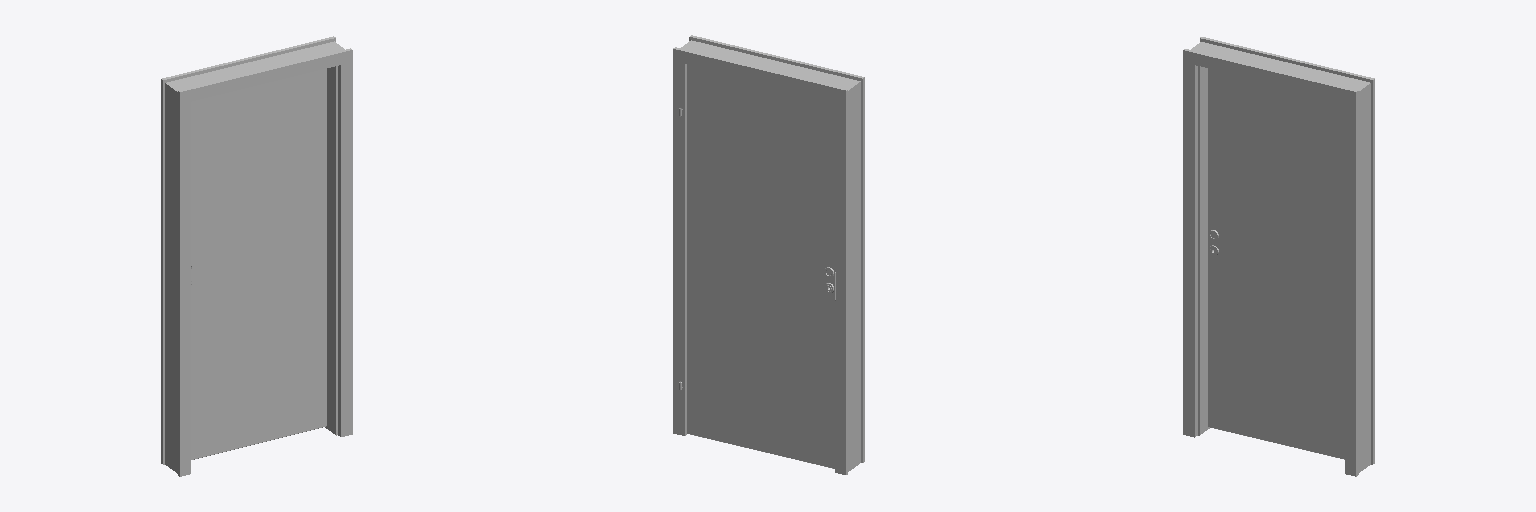
File: door_next_to.obj
The picture shows the model from 3 angles: view 1: azimuth 30°, elevation 25°; view 2: azimuth 150°, elevation 25°; view 3: azimuth 330°, elevation 25°; orthographic projection.
Visible parts, largest first — view 1: Plane.005; view 2: Plane.005; view 3: Plane.005.
Part boxes in pixels (left/top/right/bottom): Plane.005: left=161, top=36, right=352, bottom=476; Plane.005: left=673, top=35, right=864, bottom=474; Plane.005: left=1183, top=37, right=1374, bottom=476.
Size of the model in its own units: 0.9705 by 2.06 by 0.2018.